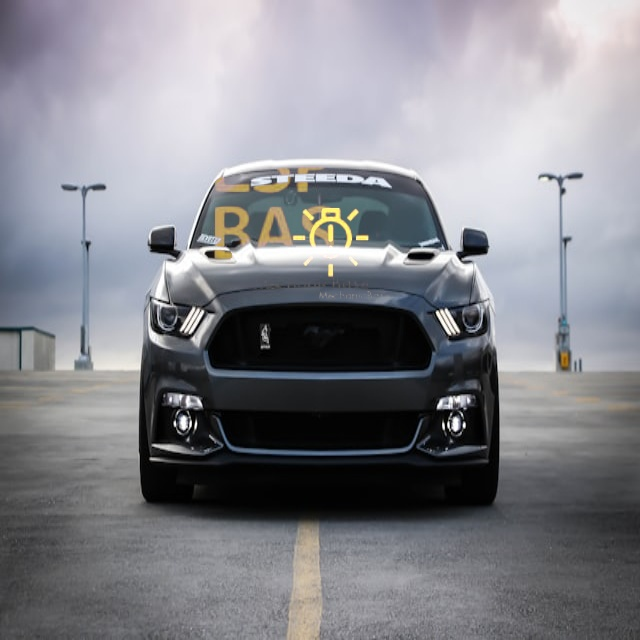symbol: (174, 97, 377, 300), (269, 180, 395, 306)
